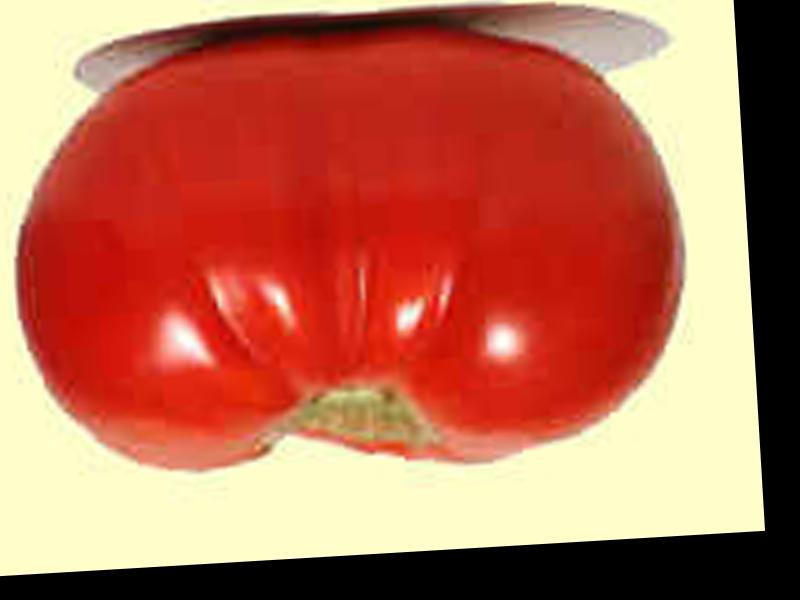Tomato: (1, 14, 693, 490)
